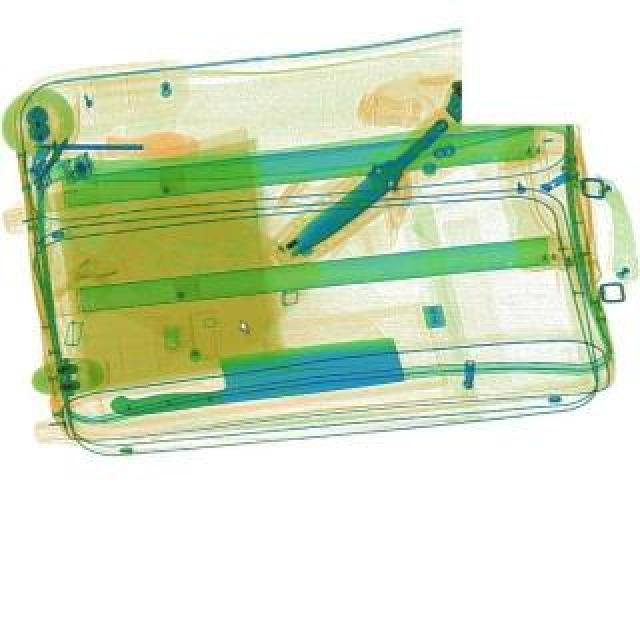knife: (102, 332, 406, 424), (278, 112, 456, 264)
